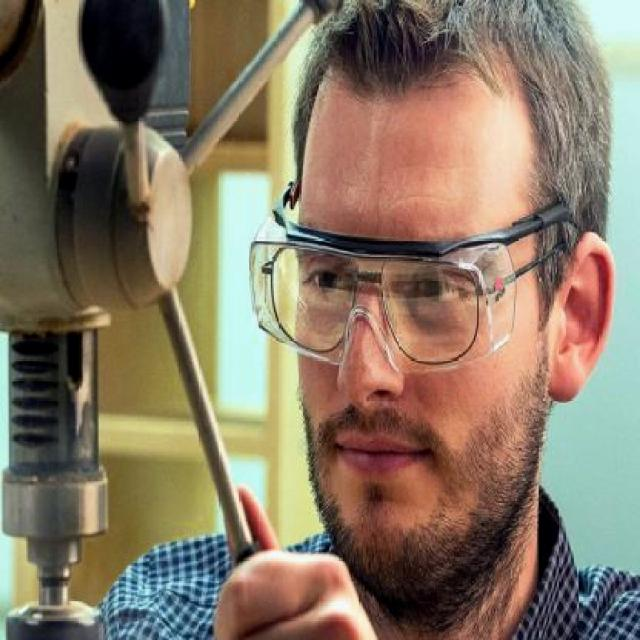face_nomask: (286, 227, 494, 516)
glasses: (247, 198, 571, 376), (262, 236, 488, 362)
head_nohelmet: (317, 0, 595, 138)
